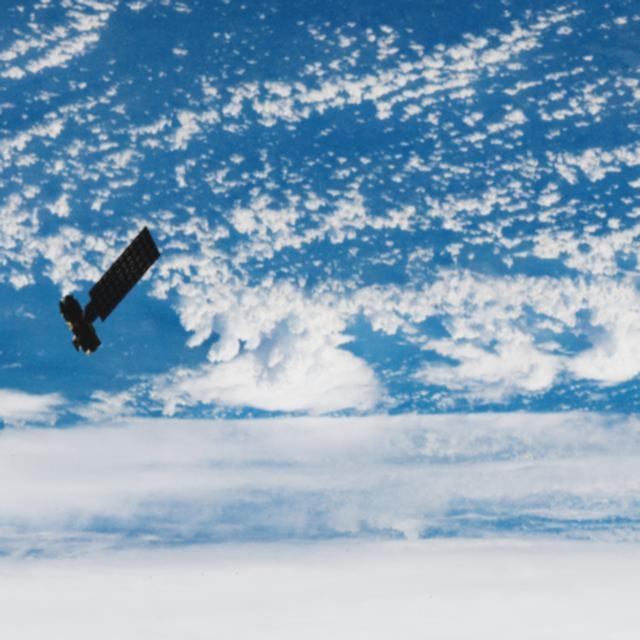satellite: (55, 224, 165, 362)
